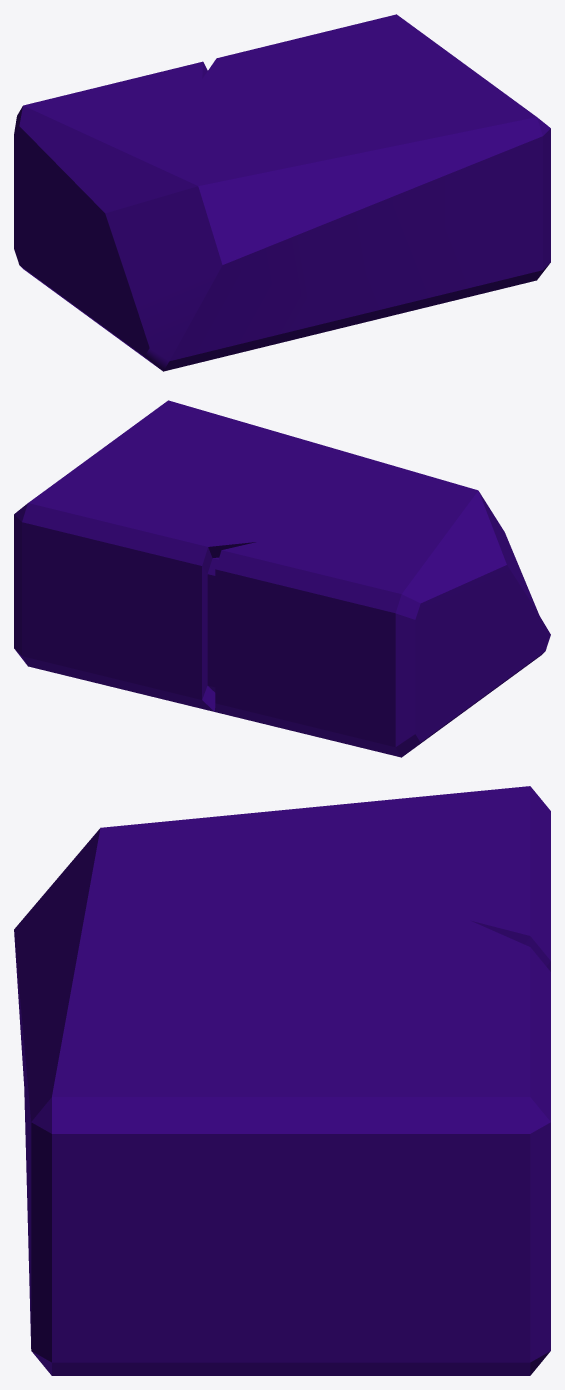
File: BrokenCeilingTile.fbx
3 views of the same model, one above another, from view 1: azimuth 30°, elevation 25°; view 2: azimuth 150°, elevation 25°; view 3: azimuth 270°, elevation 25° (orthographic). The views are drawn at different scales.
Visible parts, largest first — view 1: BrokenCeilingTile; view 2: BrokenCeilingTile; view 3: BrokenCeilingTile.
Part boxes in pixels (x1=…): BrokenCeilingTile: x1=14, y1=14, x2=550, y2=371; BrokenCeilingTile: x1=14, y1=400, x2=550, y2=757; BrokenCeilingTile: x1=14, y1=786, x2=550, y2=1375.
Size of the model in its own units: 4.29 by 1.68 by 2.93.
